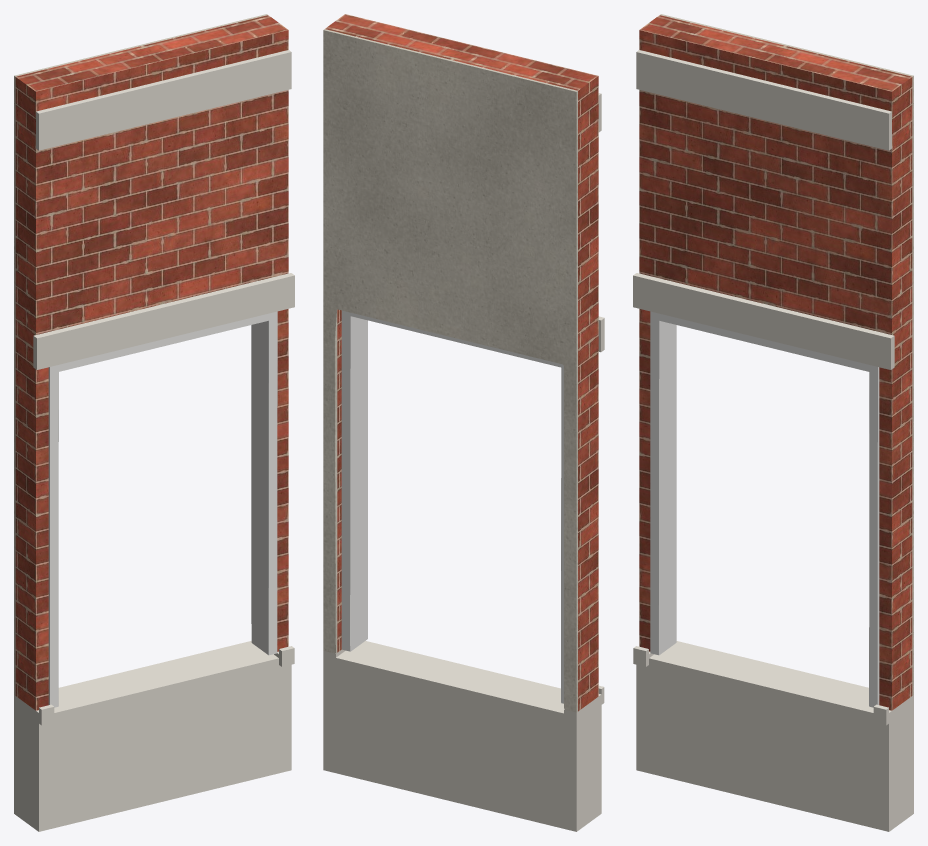
File: wall_dock.glb
3 views of the same model, side by side, from view 1: azimuth 30°, elevation 25°; view 2: azimuth 150°, elevation 25°; view 3: azimuth 330°, elevation 25° (orthographic).
Parts seen in each view (by area): view 1: wall_dock_brick, wall_dock_lime, wall_dock_frame, wall_dock_plaster; view 2: wall_dock_plaster, wall_dock_lime, wall_dock_brick, wall_dock_frame; view 3: wall_dock_brick, wall_dock_lime, wall_dock_frame, wall_dock_plaster.
Part boxes in pixels (bbox=[...]): wall_dock_brick: bbox=[15, 15, 288, 710]; wall_dock_lime: bbox=[14, 50, 294, 831]; wall_dock_frame: bbox=[48, 311, 277, 707]; wall_dock_plaster: bbox=[14, 14, 267, 695]; wall_dock_plaster: bbox=[323, 29, 577, 712]; wall_dock_lime: bbox=[323, 93, 604, 831]; wall_dock_brick: bbox=[325, 14, 598, 711]; wall_dock_frame: bbox=[341, 310, 563, 703]; wall_dock_brick: bbox=[639, 15, 912, 710]; wall_dock_lime: bbox=[633, 50, 913, 831]; wall_dock_frame: bbox=[650, 311, 879, 707]; wall_dock_plaster: bbox=[660, 14, 913, 695].
Bounding box in the file's own units: 2.04 × 5.58 × 0.38.
Materials: 4 (2 with a texture image).
